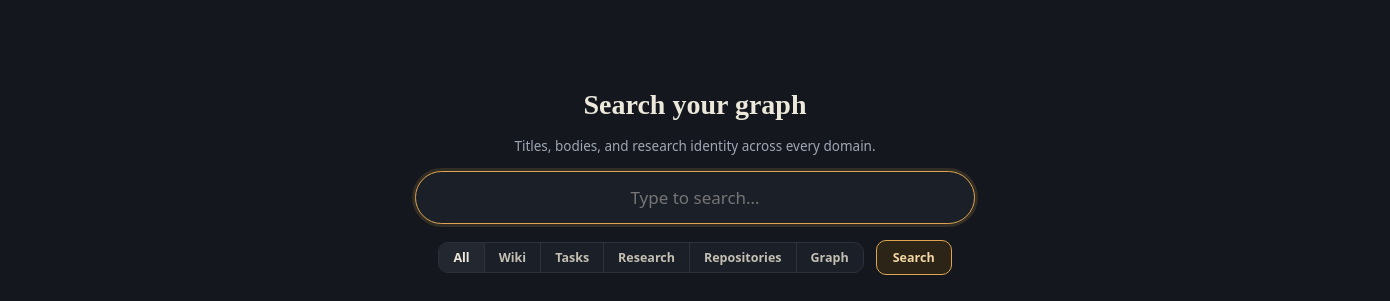
SearchView › loads the next page when has_more is set
Type "match" into the field labelled "search" at coordinates (695, 197), box [415, 171, 975, 224]
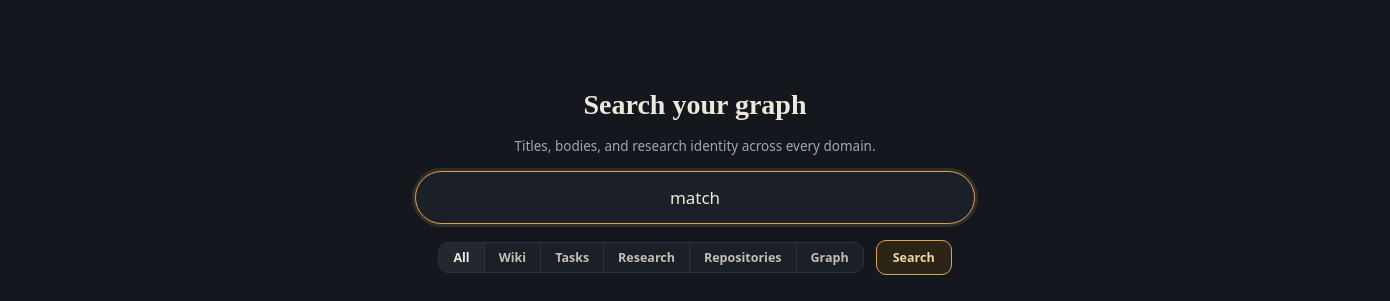
Click the button "Search" at coordinates (914, 257), box [876, 240, 952, 275]
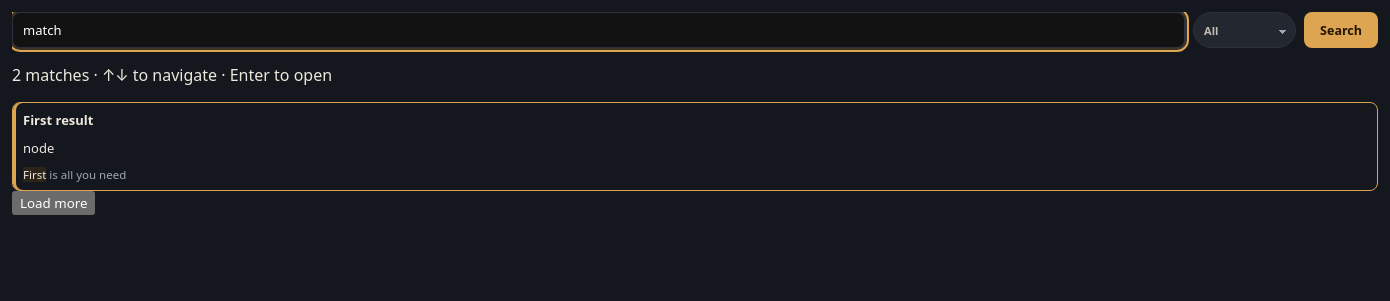
Click the button "Load more" at coordinates (54, 203), box [12, 191, 96, 215]
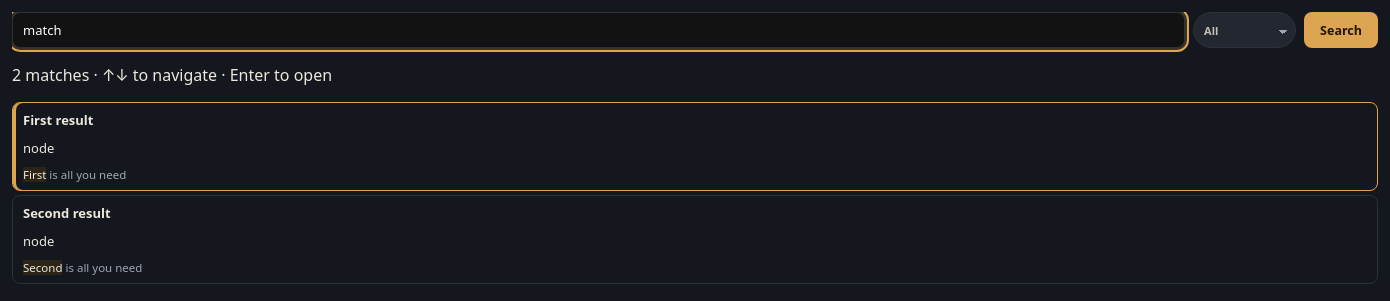
Now the text "Second result" is shown, box [23, 204, 111, 222]
Now the button "Load more" is gone
